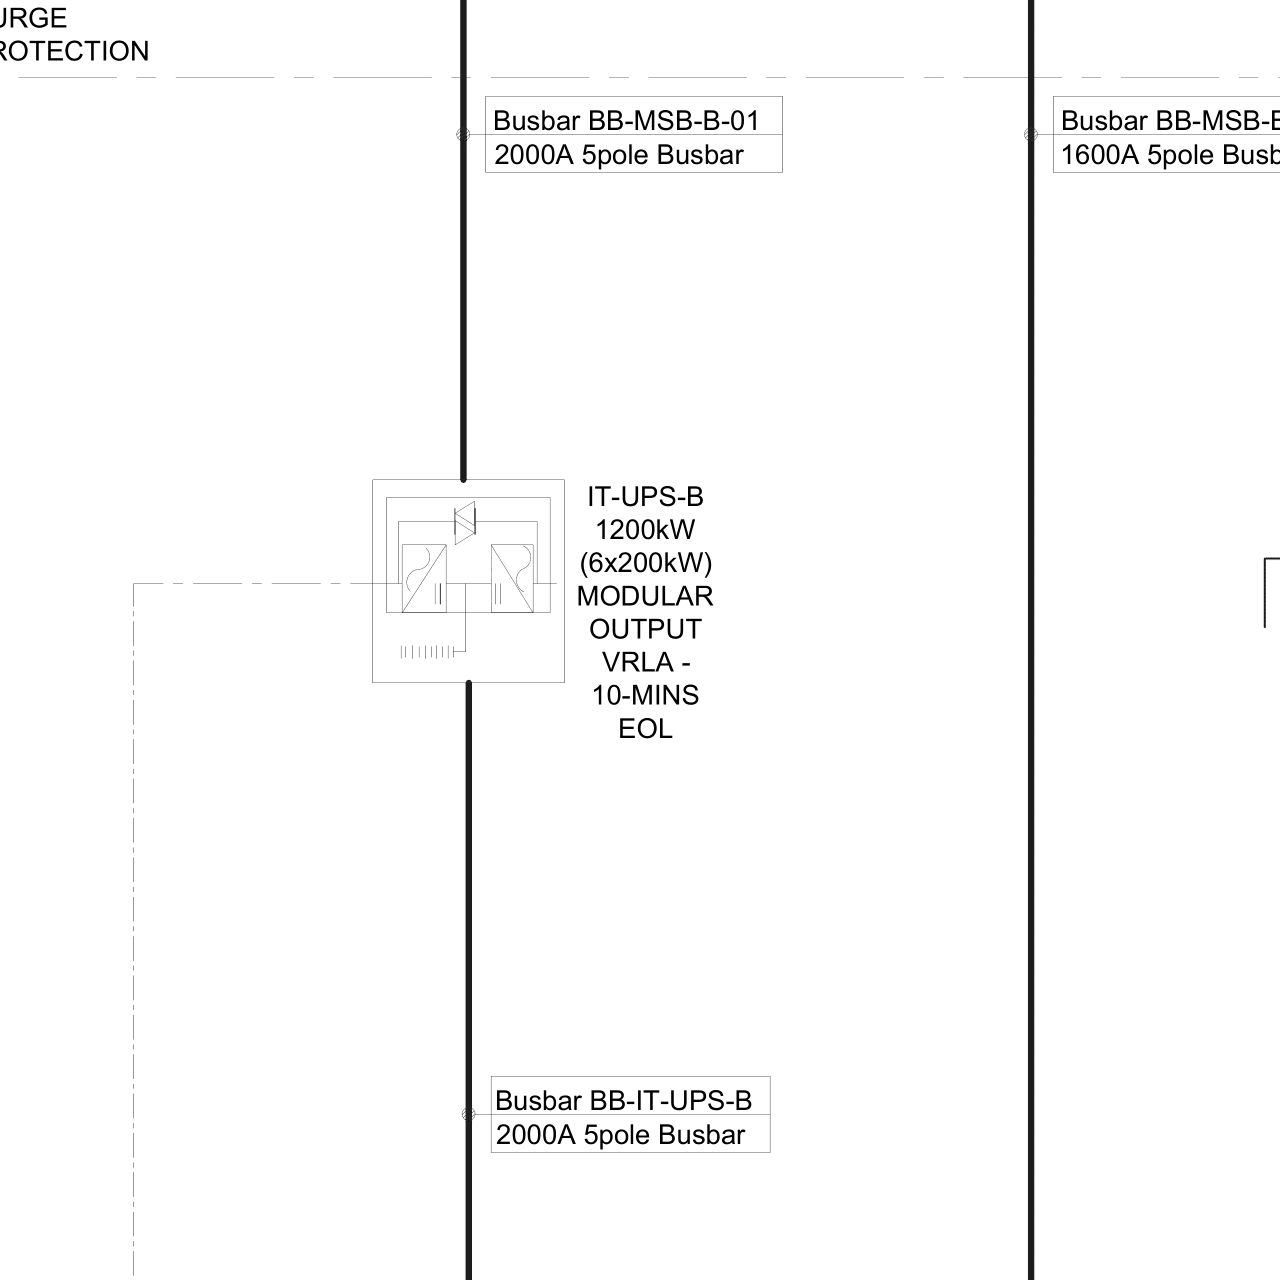UPS: (358, 470, 572, 697)
